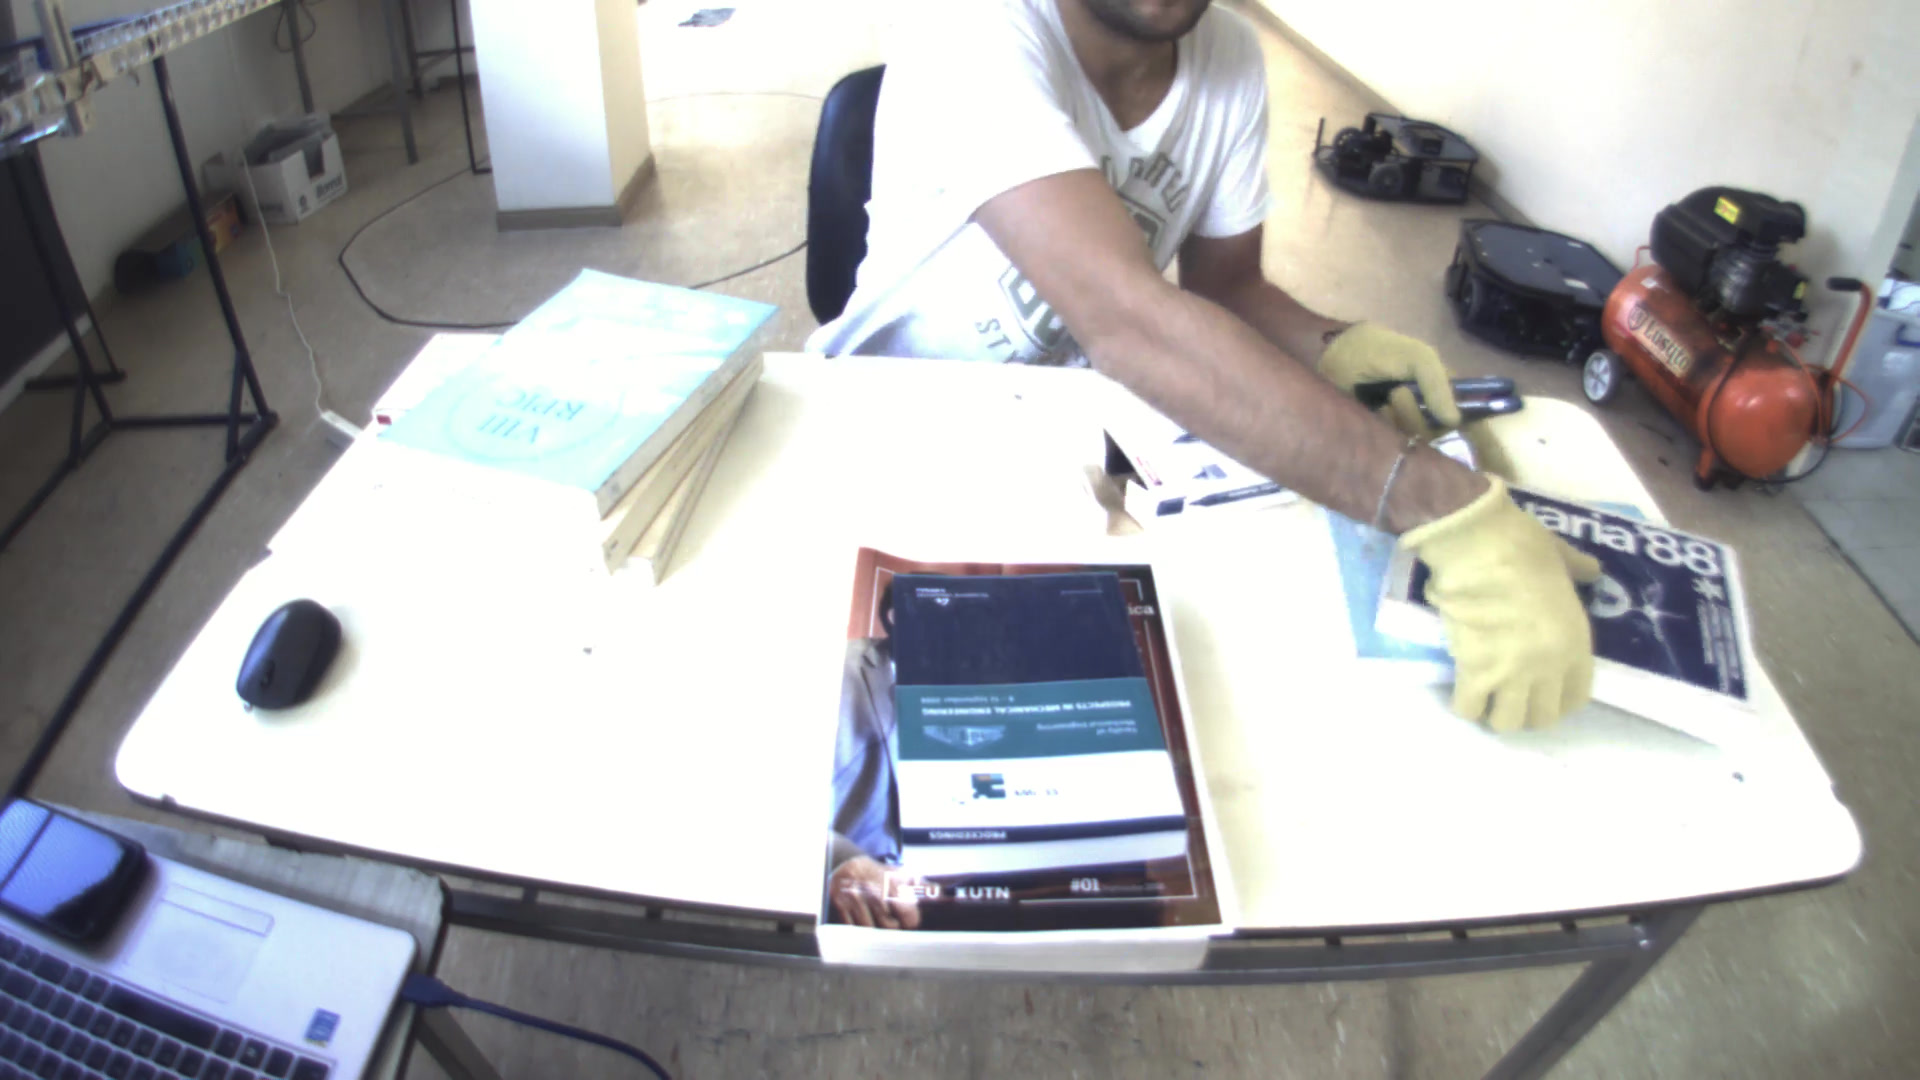hand: (1399, 475, 1614, 741), (1312, 310, 1478, 429)
